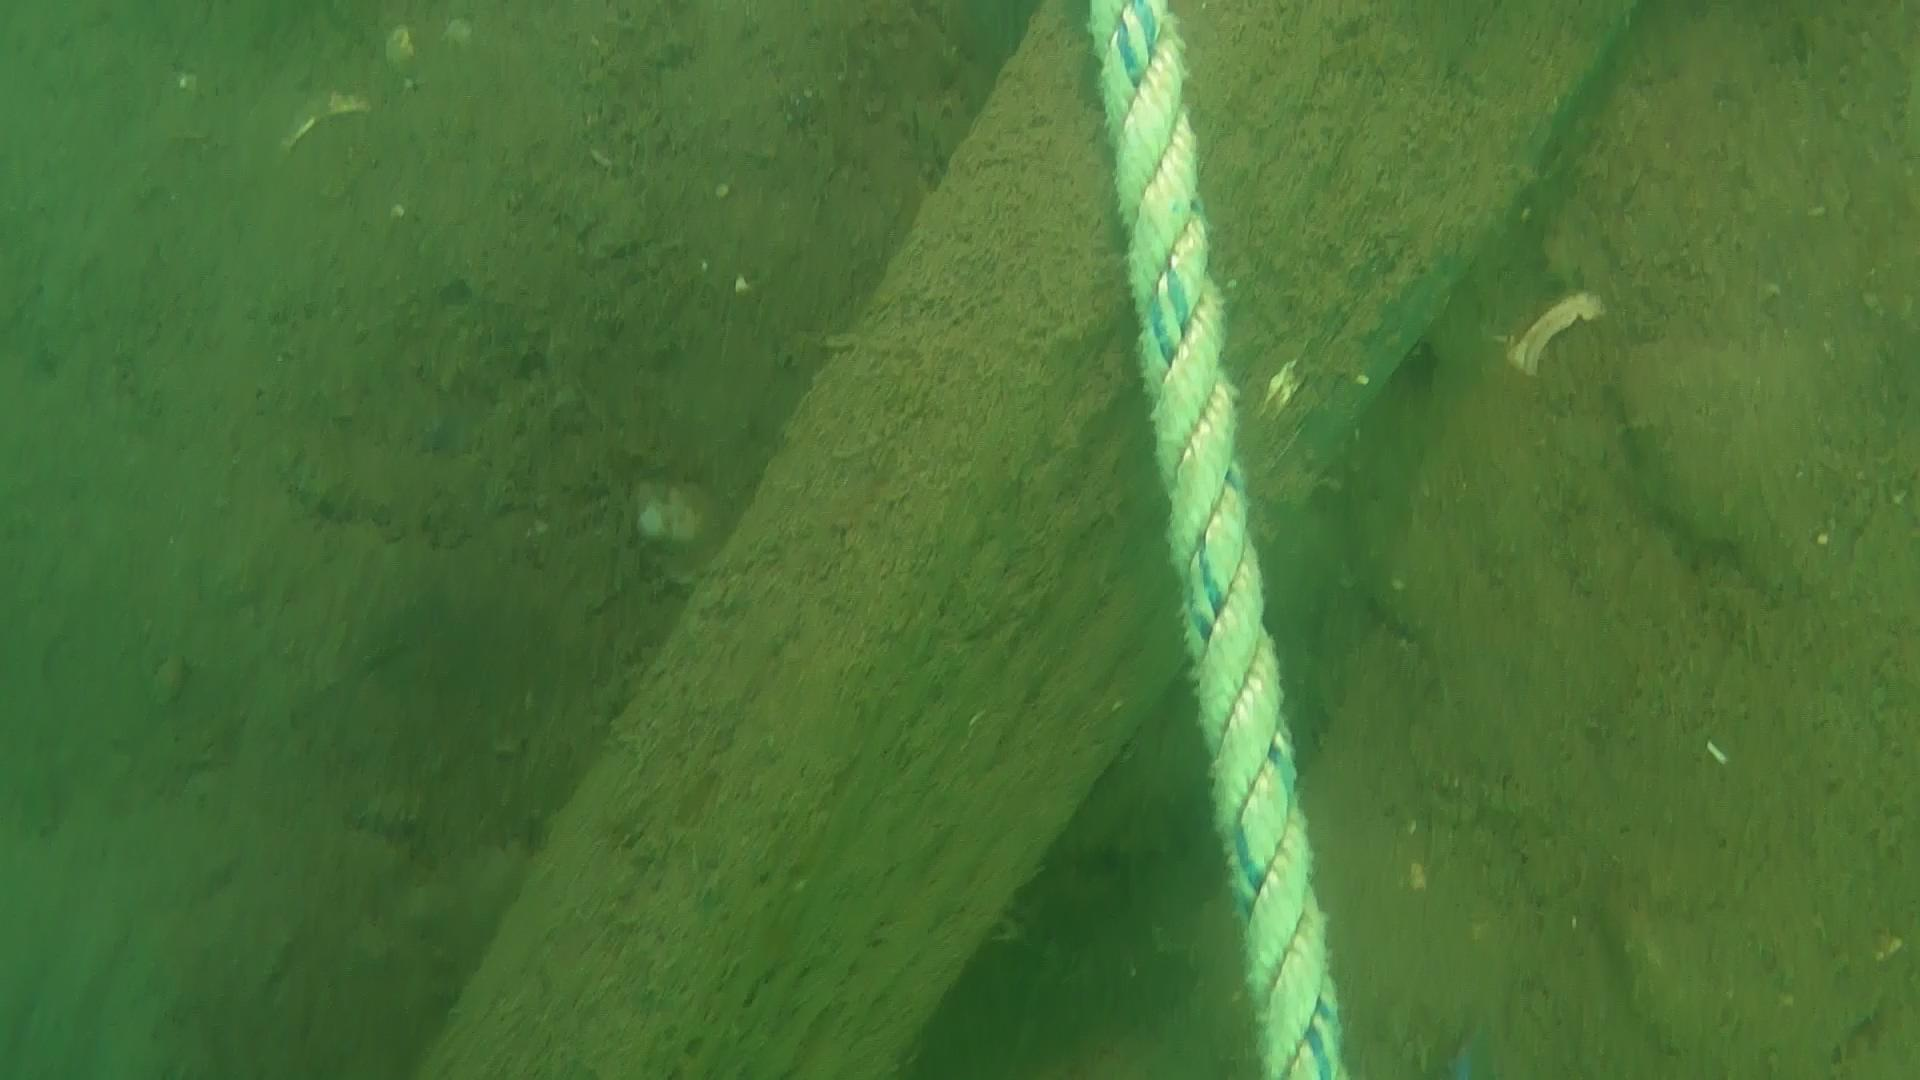rope: (1087, 0, 1352, 1080)
